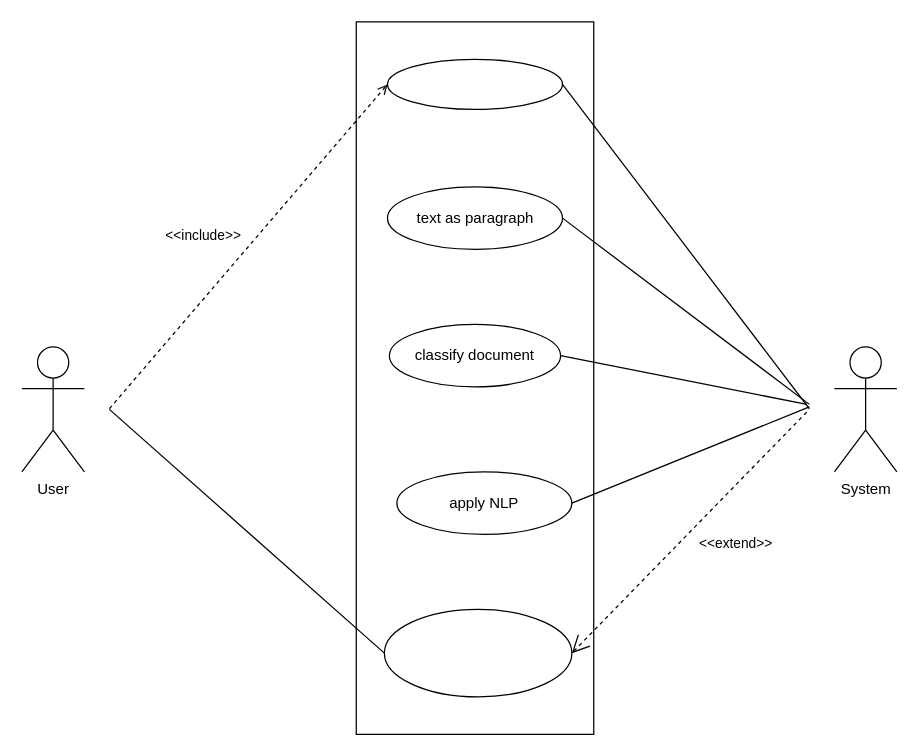
Image size: 919x756. Some labels were removed from this diagram. The centre of each missing label's shape, as x and y in pixels:
"Generate Summary" belongs at [477,652].
"Login/Registraction" belongs at [474,83].
